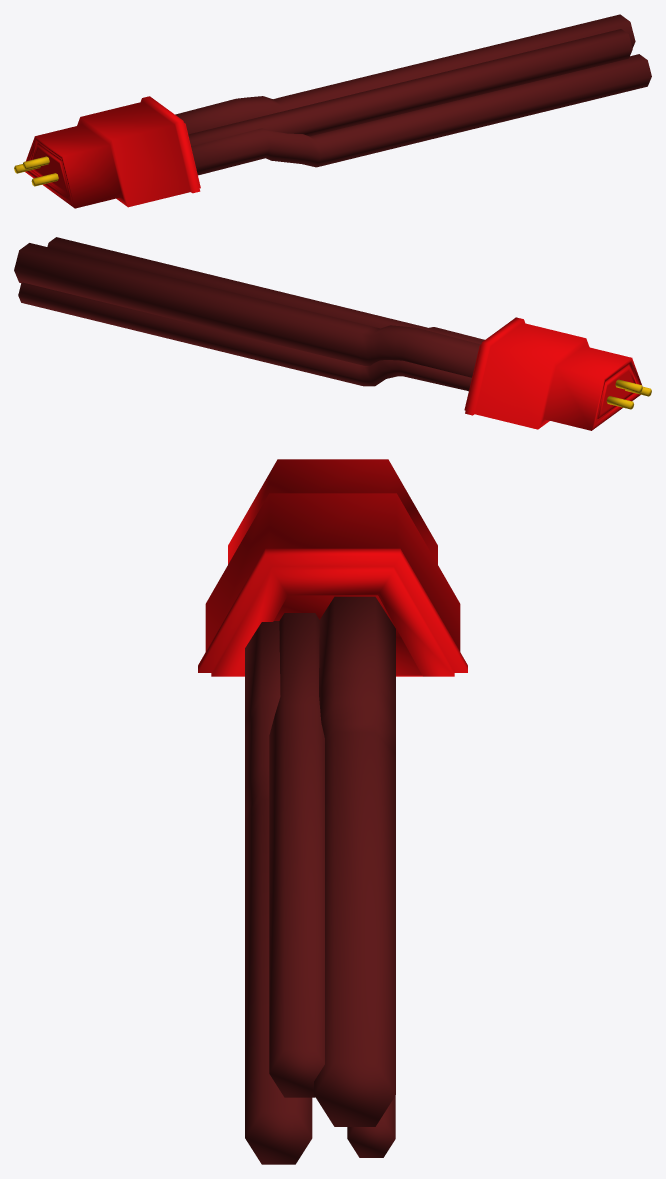
Rendered from CablesPuzzle1.fbx.
3 views of the same model, one above another, from view 1: azimuth 30°, elevation 25°; view 2: azimuth 150°, elevation 25°; view 3: azimuth 270°, elevation 25° (orthographic). The views are drawn at different scales.
Visible parts, largest first — view 1: Tubos, EnchufeRojo; view 2: Tubos, EnchufeRojo; view 3: Tubos, EnchufeRojo.
Part boxes in pixels (bbox=[...]): Tubos: bbox=[175, 14, 651, 175]; EnchufeRojo: bbox=[14, 96, 200, 208]; Tubos: bbox=[14, 237, 484, 391]; EnchufeRojo: bbox=[464, 317, 651, 430]; Tubos: bbox=[245, 596, 395, 1164]; EnchufeRojo: bbox=[198, 459, 467, 676].
Bounding box in the file's own units: 459 × 56.67 × 88.63.
